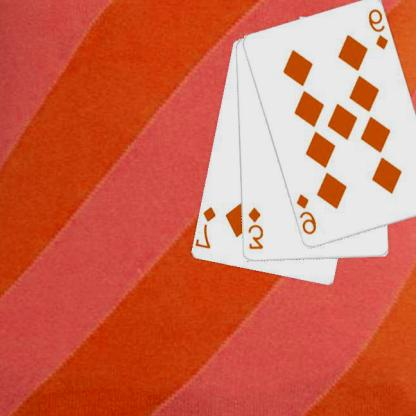3D: (246, 205, 266, 251)
7D: (196, 203, 219, 250)
9D: (295, 191, 320, 237), (367, 6, 391, 51)
